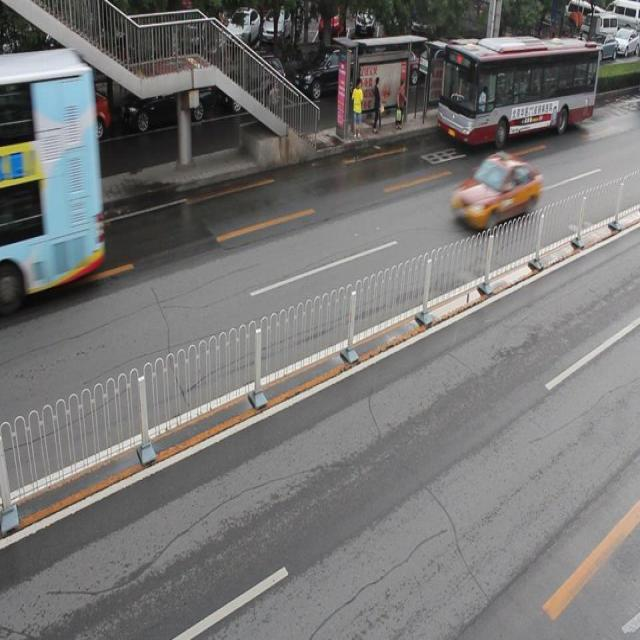car: (451, 148, 539, 231), (18, 82, 108, 147), (118, 72, 210, 126), (220, 50, 285, 111), (292, 42, 361, 99)
van: (1, 48, 104, 302), (437, 41, 599, 145)
